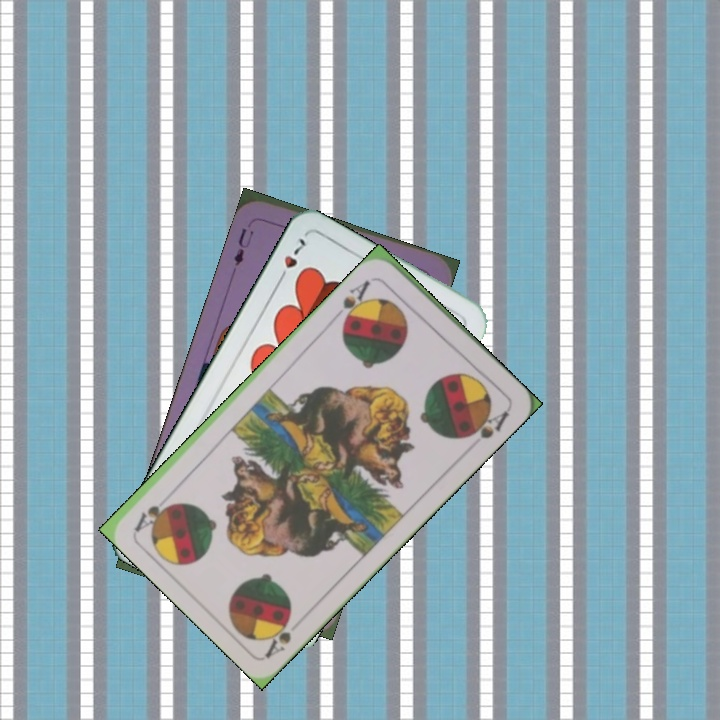EU: (229, 224, 256, 269)
H7: (273, 233, 309, 286)
SA: (331, 276, 373, 326), (261, 609, 295, 659)
